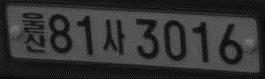0: (163, 19, 188, 61)
1: (191, 19, 210, 63), (75, 13, 93, 57)
3: (134, 17, 159, 60)
6: (217, 22, 243, 66)
8: (47, 12, 73, 54)
사: (101, 17, 125, 57)
울산_V: (21, 11, 47, 54)
